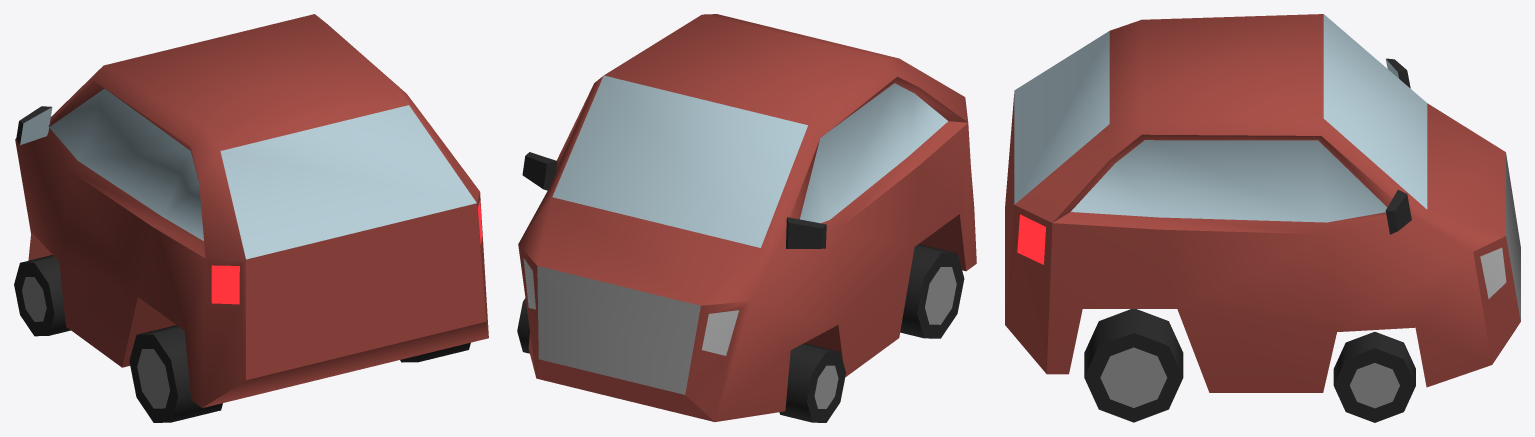
Rendered from coche.fbx.
The picture shows the model from 3 angles, left to right: view 1: azimuth 30°, elevation 25°; view 2: azimuth 150°, elevation 25°; view 3: azimuth 270°, elevation 25°; orthographic projection. The views are drawn at different scales.
Parts seen in each view (by area): view 1: coche; view 2: coche; view 3: coche.
Boxes of the visible parts, <box> form: coche: <box>14,14,488,422</box>; coche: <box>517,14,976,422</box>; coche: <box>1005,14,1520,422</box>.
Bounding box in the file's own units: 0.2415 × 0.2075 × 0.3432.
